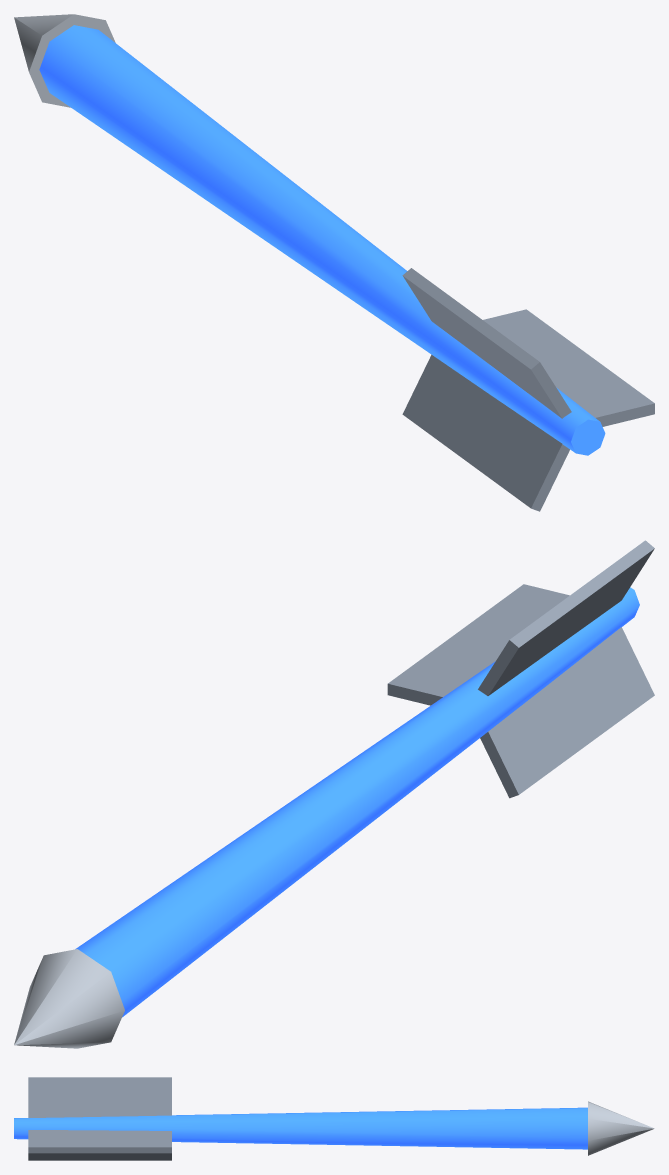
File: proj_lance_bolt_t2.glb
3 renders of one model, top to bottom at view 1: azimuth 30°, elevation 25°; view 2: azimuth 150°, elevation 25°; view 3: azimuth 270°, elevation 25°, orthographic. The views are drawn at different scales.
Visible parts, largest first — view 1: proj_lance_bolt_t2_core, proj_lance_bolt_t2_fin2, proj_lance_bolt_t2_fin0, proj_lance_bolt_t2_fin1, proj_lance_bolt_t2_tip; view 2: proj_lance_bolt_t2_core, proj_lance_bolt_t2_fin2, proj_lance_bolt_t2_tip, proj_lance_bolt_t2_fin0, proj_lance_bolt_t2_fin1; view 3: proj_lance_bolt_t2_core, proj_lance_bolt_t2_fin1, proj_lance_bolt_t2_fin0, proj_lance_bolt_t2_tip, proj_lance_bolt_t2_fin2.
Part boxes in pixels (x1=…): proj_lance_bolt_t2_core: x1=39, y1=25, x2=605, y2=455; proj_lance_bolt_t2_fin2: x1=402, y1=354, x2=569, y2=511; proj_lance_bolt_t2_fin0: x1=483, y1=309, x2=654, y2=426; proj_lance_bolt_t2_fin1: x1=402, y1=268, x2=571, y2=418; proj_lance_bolt_t2_tip: x1=14, y1=14, x2=115, y2=107; proj_lance_bolt_t2_core: x1=75, y1=587, x2=639, y2=1017; proj_lance_bolt_t2_fin2: x1=480, y1=627, x2=654, y2=798; proj_lance_bolt_t2_tip: x1=14, y1=949, x2=124, y2=1048; proj_lance_bolt_t2_fin0: x1=387, y1=584, x2=569, y2=705; proj_lance_bolt_t2_fin1: x1=478, y1=540, x2=654, y2=695; proj_lance_bolt_t2_core: x1=14, y1=1107, x2=587, y2=1149; proj_lance_bolt_t2_fin1: x1=28, y1=1077, x2=171, y2=1117; proj_lance_bolt_t2_fin0: x1=28, y1=1130, x2=171, y2=1153; proj_lance_bolt_t2_tip: x1=588, y1=1101, x2=654, y2=1155; proj_lance_bolt_t2_fin2: x1=28, y1=1153, x2=171, y2=1160.
Size of the model in its own units: 0.126 by 0.1447 by 1.
